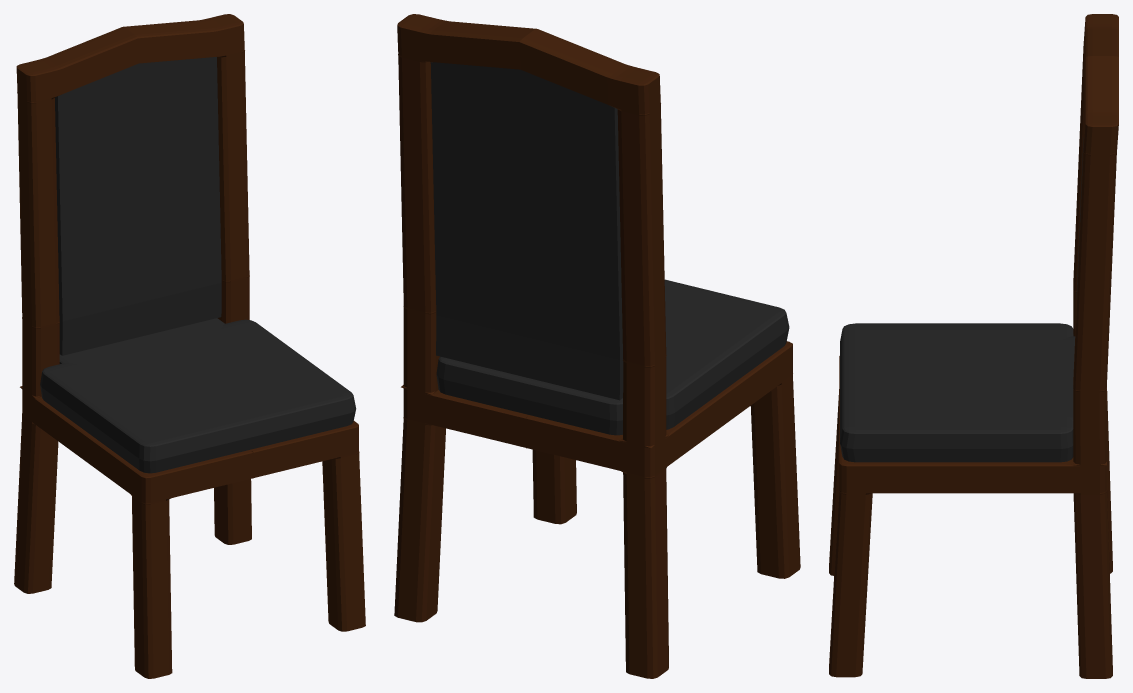
The model's file is Silla.glb.
The picture shows the model from 3 angles, left to right: view 1: azimuth 30°, elevation 25°; view 2: azimuth 150°, elevation 25°; view 3: azimuth 270°, elevation 25°; orthographic projection. The views are drawn at different scales.
Parts seen in each view (by area): view 1: coginSilla, marcoSilla; view 2: marcoSilla, coginSilla; view 3: marcoSilla, coginSilla.
Boxes of the visible parts, left/top/right/bottom form: coginSilla: left=40, top=57, right=356, bottom=473; marcoSilla: left=14, top=14, right=365, bottom=678; marcoSilla: left=394, top=14, right=800, bottom=678; coginSilla: left=430, top=62, right=789, bottom=435; marcoSilla: left=829, top=14, right=1118, bottom=678; coginSilla: left=840, top=137, right=1083, bottom=462.
Size of the model in its own units: 2.1 by 4.66 by 2.17.
